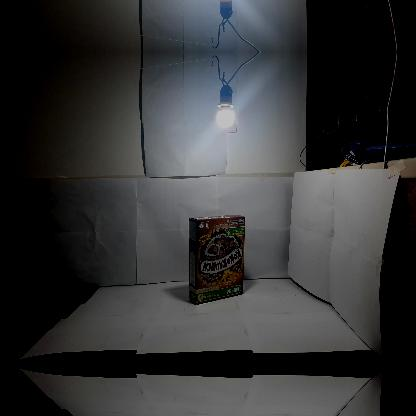Koko-Krunch: (188, 214, 245, 304)
